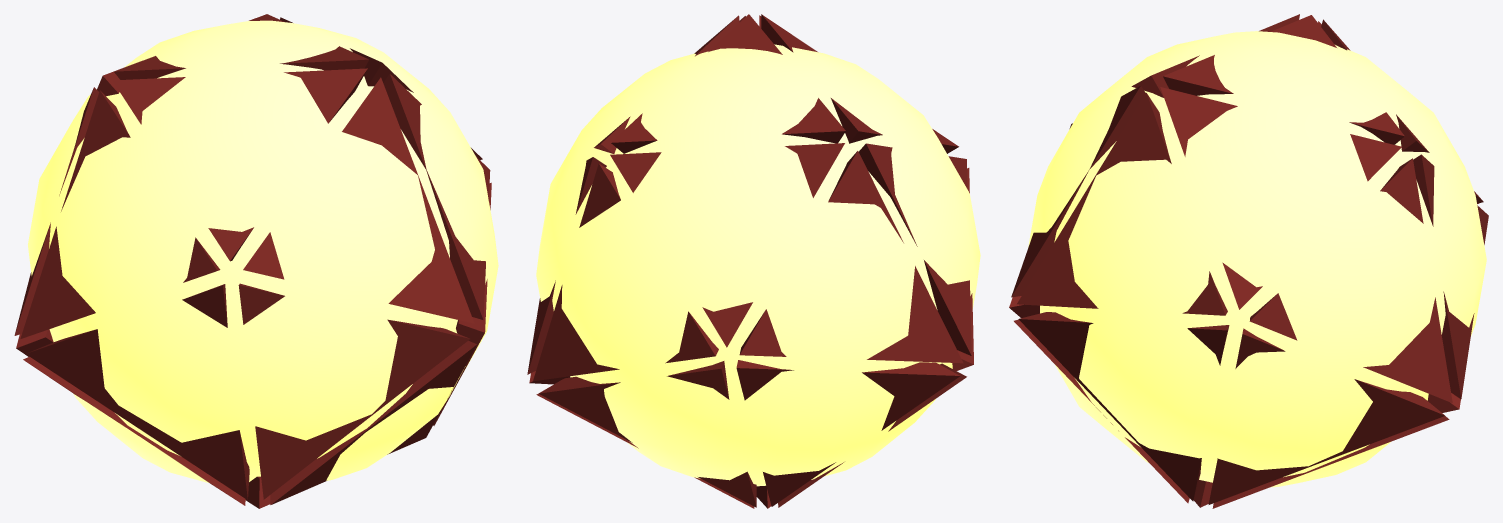
Rendered from ember.glb.
3 views of the same model, side by side, from view 1: azimuth 30°, elevation 25°; view 2: azimuth 150°, elevation 25°; view 3: azimuth 270°, elevation 25° (orthographic). The views are drawn at different scales.
Visible parts, largest first — view 1: ember / molten / ember emissive insert, ember / basalt / ember dark structure; view 2: ember / molten / ember emissive insert, ember / basalt / ember dark structure; view 3: ember / molten / ember emissive insert, ember / basalt / ember dark structure.
Part boxes in pixels (box(x1,y1,x2,y2)): ember / molten / ember emissive insert: box(28, 20, 498, 482); ember / basalt / ember dark structure: box(14, 14, 491, 508); ember / molten / ember emissive insert: box(536, 44, 980, 486); ember / basalt / ember dark structure: box(527, 14, 973, 508); ember / molten / ember emissive insert: box(1028, 31, 1486, 487); ember / basalt / ember dark structure: box(1009, 14, 1488, 508).
Bounding box in the file's own units: 8.59 × 7.87 × 8.15.
